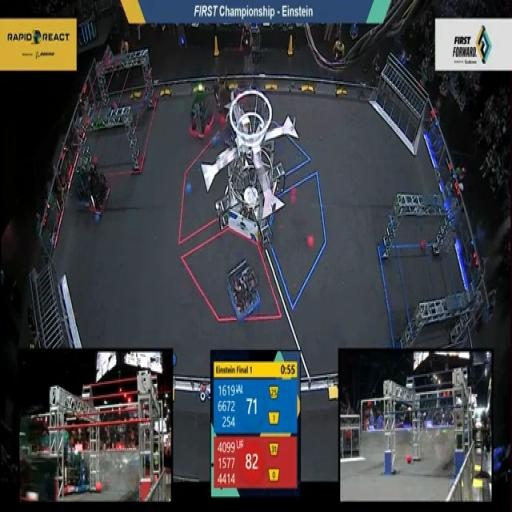robot: (226, 258, 262, 323), (212, 70, 242, 127), (87, 162, 114, 223), (186, 90, 213, 143), (72, 155, 95, 212)
